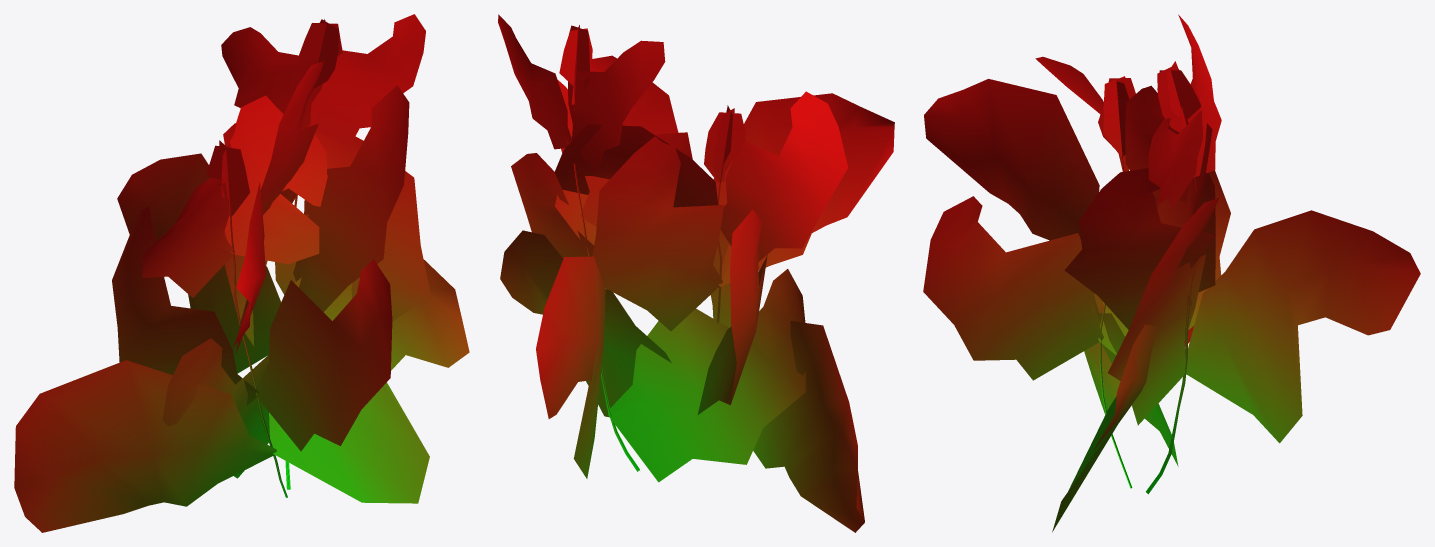
The model's file is White Ramping Fumitory_LOD0_Var3_ti4efc3ia.fbx.
3 views of the same model, side by side, from view 1: azimuth 30°, elevation 25°; view 2: azimuth 150°, elevation 25°; view 3: azimuth 270°, elevation 25° (orthographic). The views are drawn at different scales.
Parts seen in each view (by area): view 1: _36d5_Var3_LOD0; view 2: _36d5_Var3_LOD0; view 3: _36d5_Var3_LOD0.
Boxes of the visible parts, x1,y1,x2,y2 form: _36d5_Var3_LOD0: (14, 14, 469, 532); _36d5_Var3_LOD0: (498, 14, 894, 532); _36d5_Var3_LOD0: (923, 14, 1420, 532).
Bounding box in the file's own units: 61.98 × 66.88 × 65.53.
